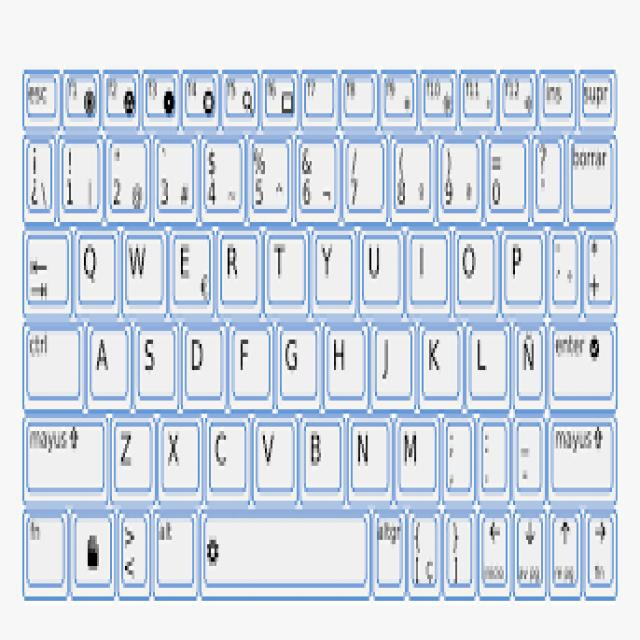others: (3, 17, 640, 609)
